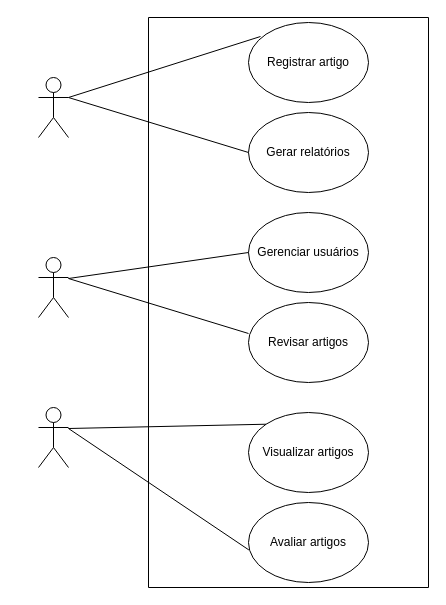
Image size: 446x605. Some labels were removed from this diagram. The centre of each missing label's shape, as x and y in pixels:
administrador: point 53,287
Editores: point 53,107
Usuário: point 53,437
